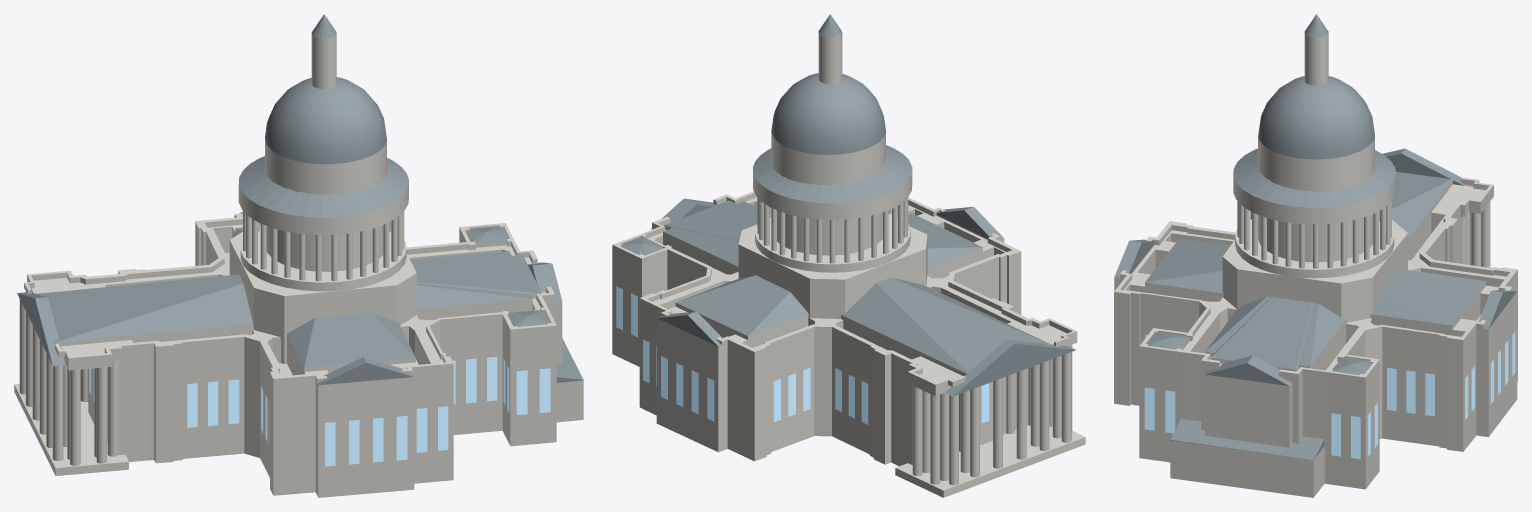
The model's file is detail.glb.
3 views of the same model, side by side, from view 1: azimuth 30°, elevation 25°; view 2: azimuth 150°, elevation 25°; view 3: azimuth 270°, elevation 25° (orthographic). The views are drawn at different scales.
Parts seen in each view (by area): view 1: stone, roof, window; view 2: stone, roof, window; view 3: stone, roof, window.
Part boxes in pixels (<box>): stone: <box>14,34,583,497</box>; roof: <box>17,14,583,385</box>; window: <box>89,356,550,466</box>; stone: <box>612,32,1085,497</box>; roof: <box>621,14,1075,396</box>; window: <box>616,286,995,424</box>; stone: <box>1114,33,1517,497</box>; roof: <box>1114,14,1516,459</box>; window: <box>1144,331,1515,459</box>.
Size of the model in its own units: 118 by 90 by 87.02.
